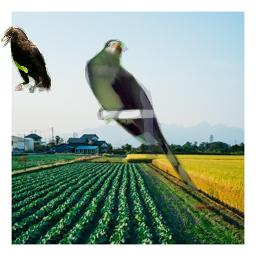Crow: (1, 26, 51, 93)
Cuckoo: (85, 39, 205, 194)
